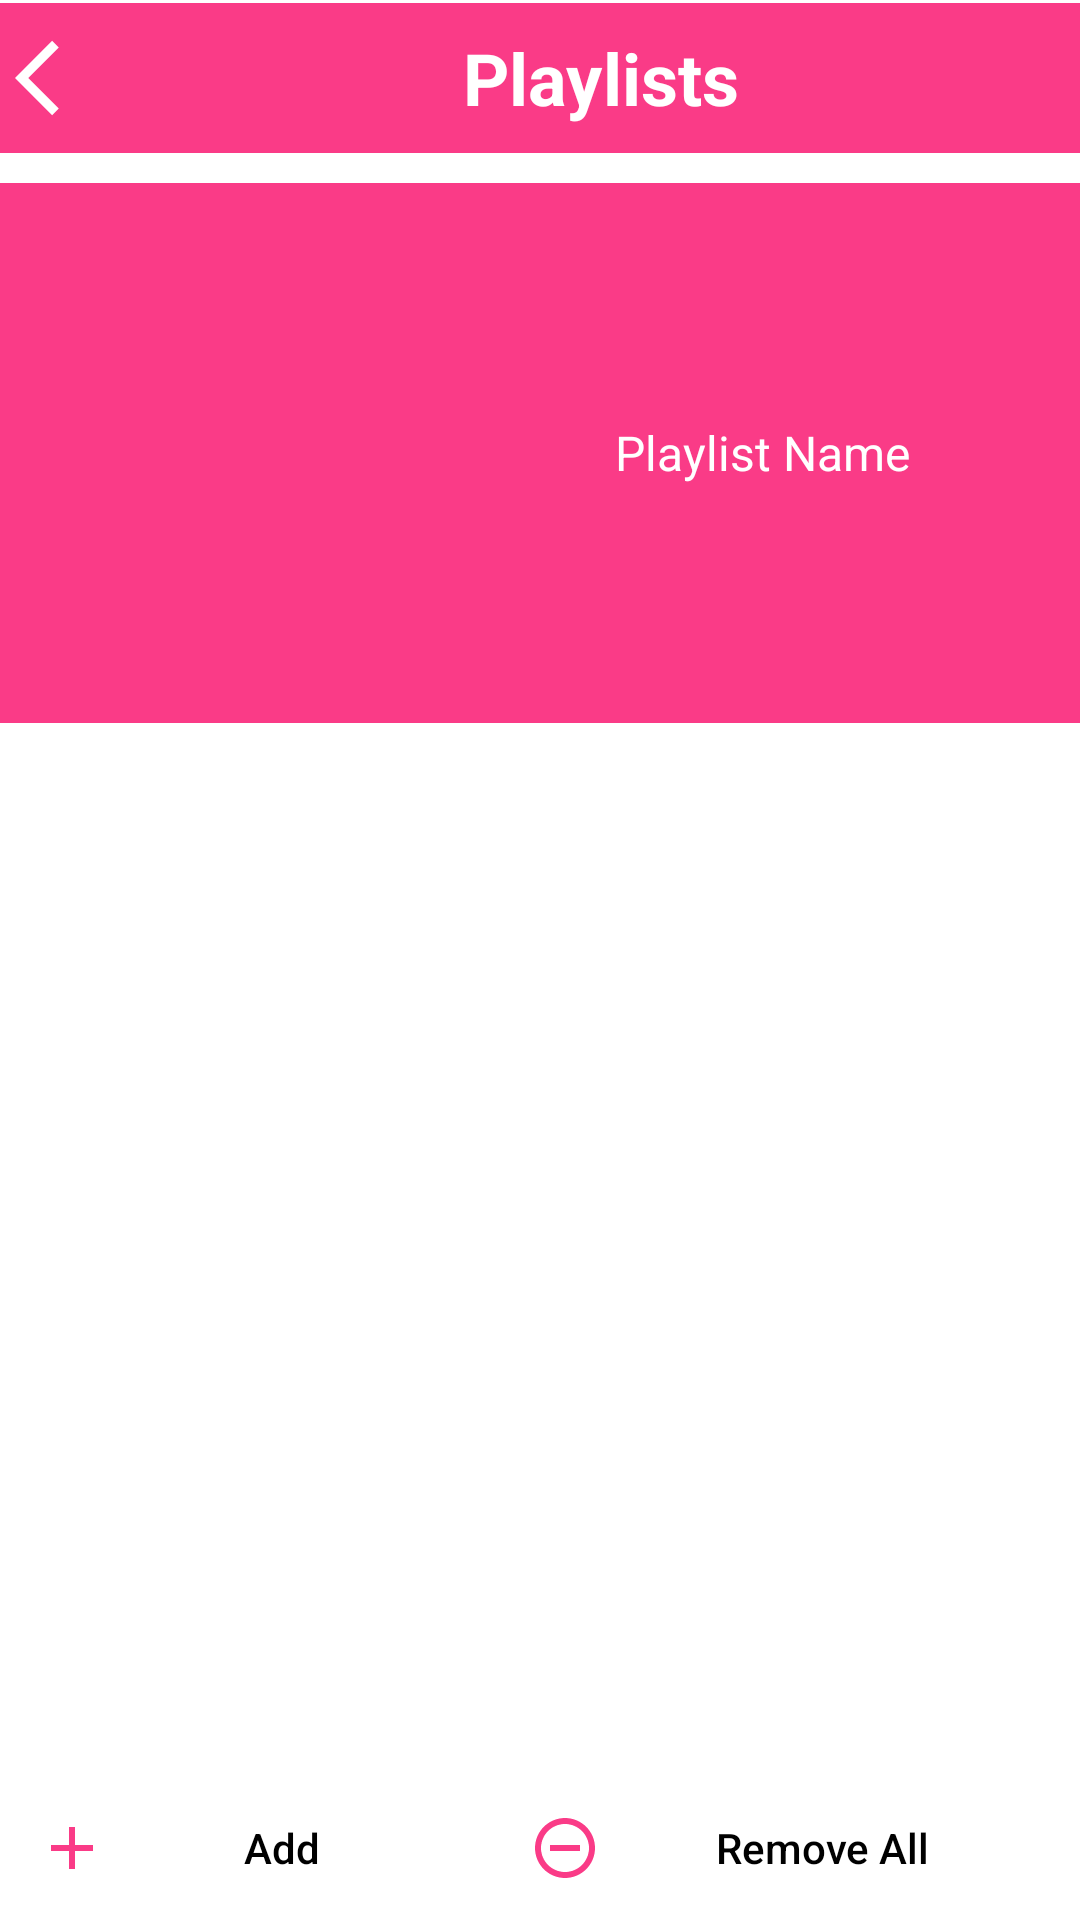

Named icons in this screenshot (1080x1920) and their centers, point (x, y):
Back: point (37, 78)
